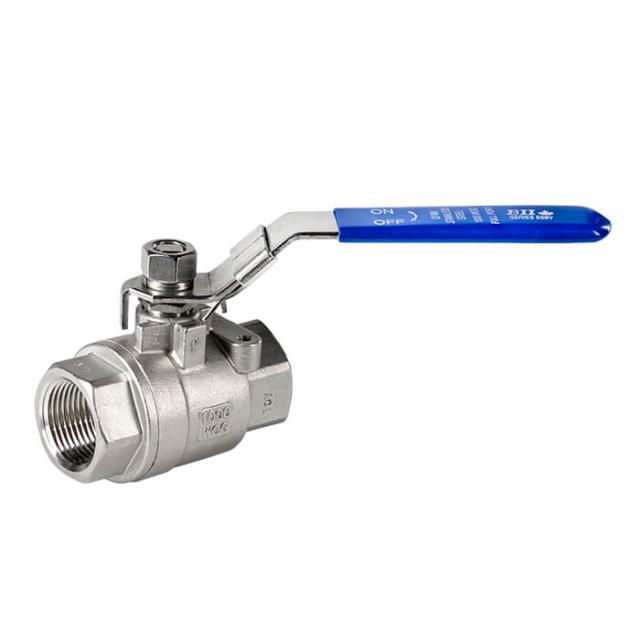Lever Handle Valve Threaded: (23, 168, 631, 303)
